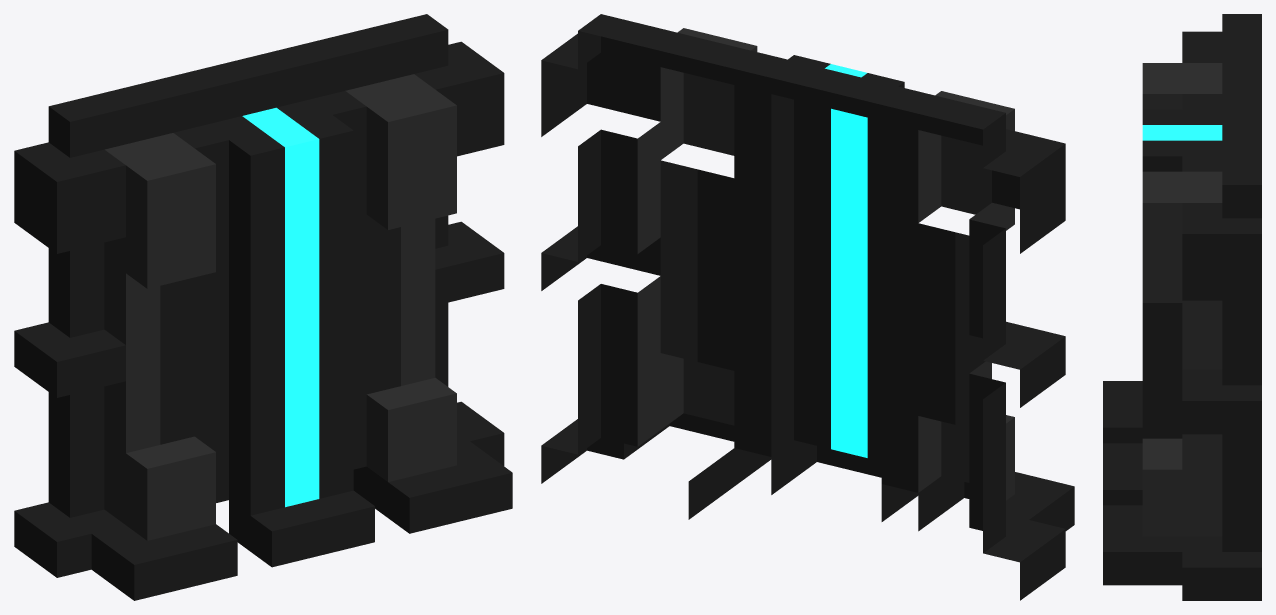
The model's file is ChandyDoors_Sides.fbx.
The picture shows the model from 3 angles, left to right: view 1: azimuth 30°, elevation 25°; view 2: azimuth 150°, elevation 25°; view 3: azimuth 270°, elevation 25°; orthographic projection. The views are drawn at different scales.
Visible parts, largest first — view 1: ChandyDoors_Sides; view 2: ChandyDoors_Sides; view 3: ChandyDoors_Sides.
Part boxes in pixels (x1,y1,x2,y2): ChandyDoors_Sides: [14, 14, 512, 600]; ChandyDoors_Sides: [541, 14, 1074, 600]; ChandyDoors_Sides: [1103, 14, 1261, 600].
Size of the model in its own units: 120 by 110 by 39.66.
Materials: 1 (1 with a texture image).
